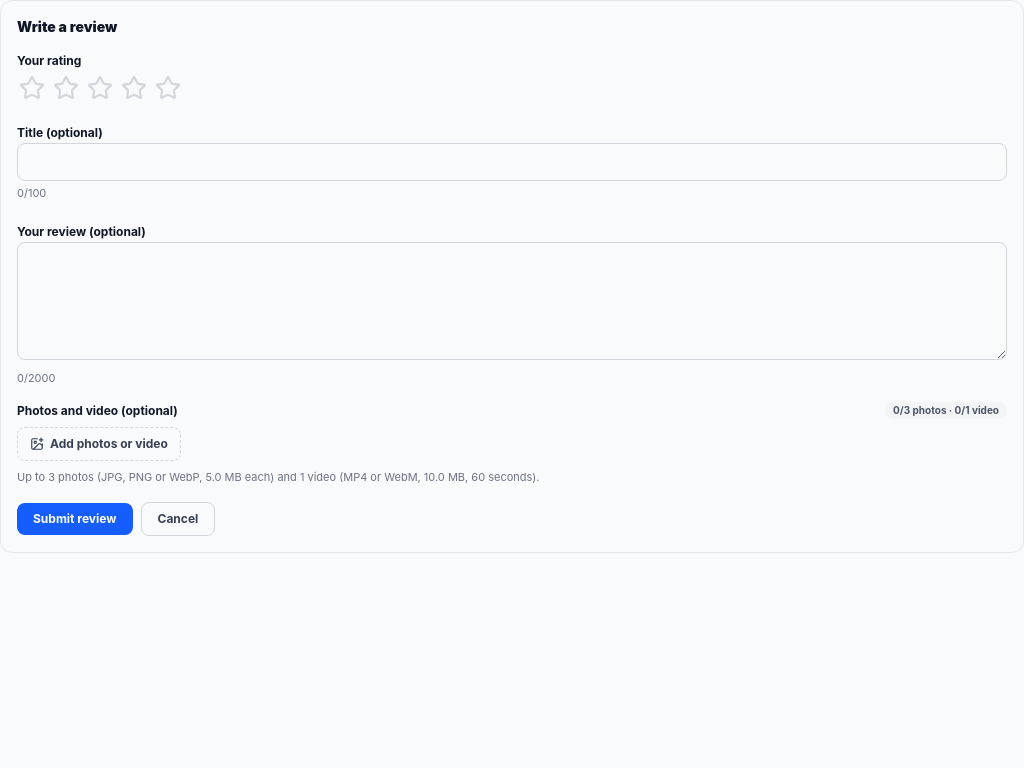
Test: ReviewForm: a new review › asks for a star rating and sends nothing without one
The image size is (1024, 768).
Click the button "Submit review" at (75, 519), box [17, 503, 132, 535]
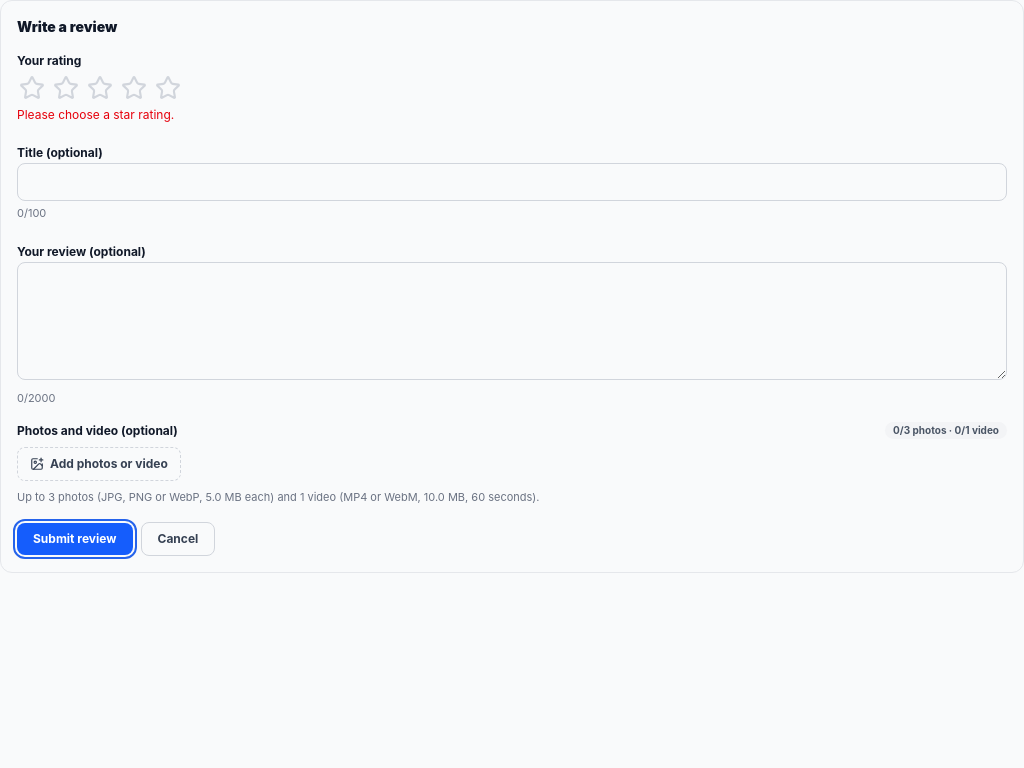
Now the message reads "Please choose a star rating.", box [17, 107, 174, 122]
